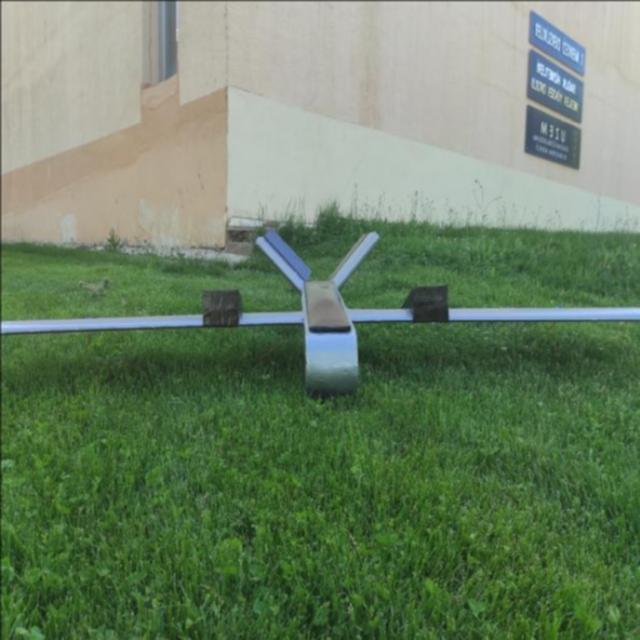plane: (0, 226, 640, 399)
